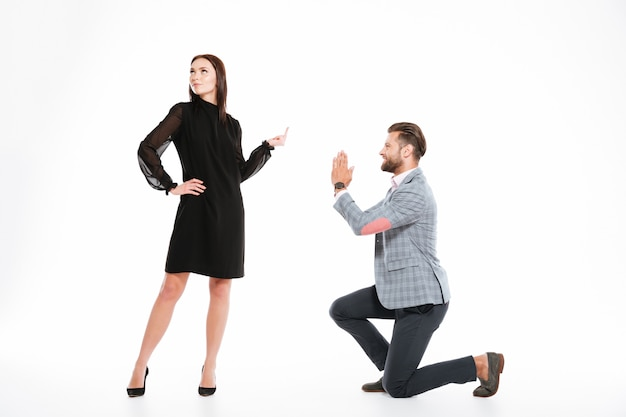insulting_gesture: (265, 125, 293, 148)
